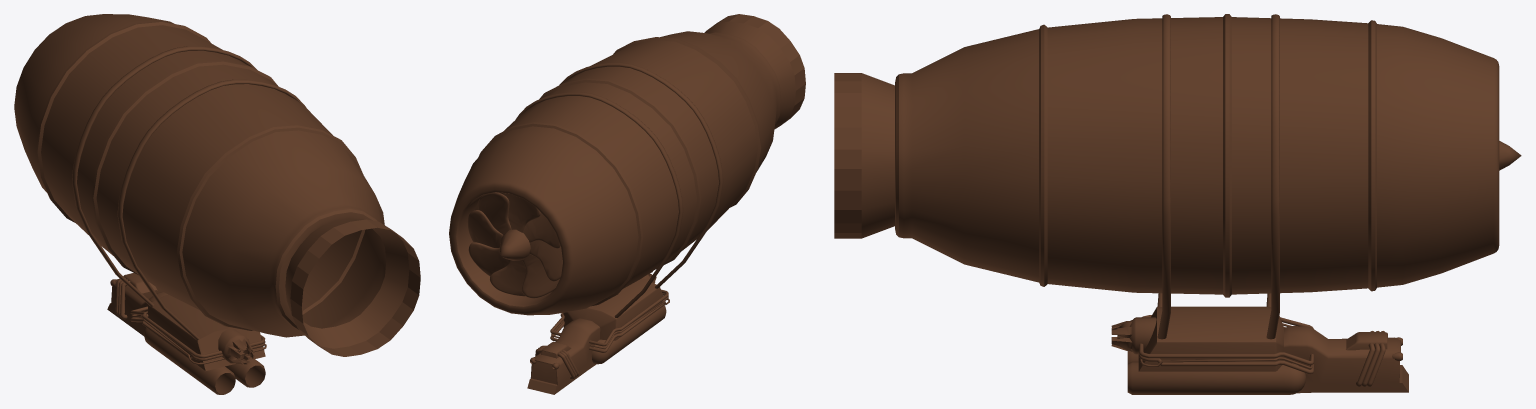
File: ShipB.FBX
3 renders of one model, left to right at view 1: azimuth 30°, elevation 25°; view 2: azimuth 150°, elevation 25°; view 3: azimuth 270°, elevation 25°, orthographic. The views are drawn at different scales.
Visible parts, largest first — view 1: Box001; view 2: Box001; view 3: Box001.
Part boxes in pixels (x1=…): Box001: x1=14, y1=14, x2=420, y2=394; Box001: x1=449, y1=14, x2=805, y2=394; Box001: x1=834, y1=14, x2=1521, y2=394.
Bounding box in the file's own units: 545 × 749 × 1304.
